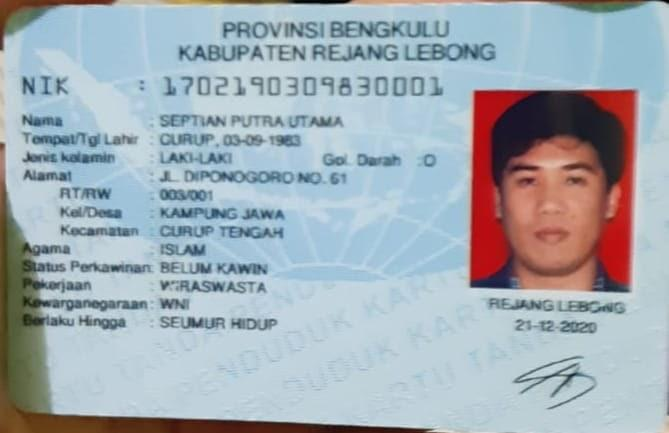ID-card: (5, 1, 665, 433)
